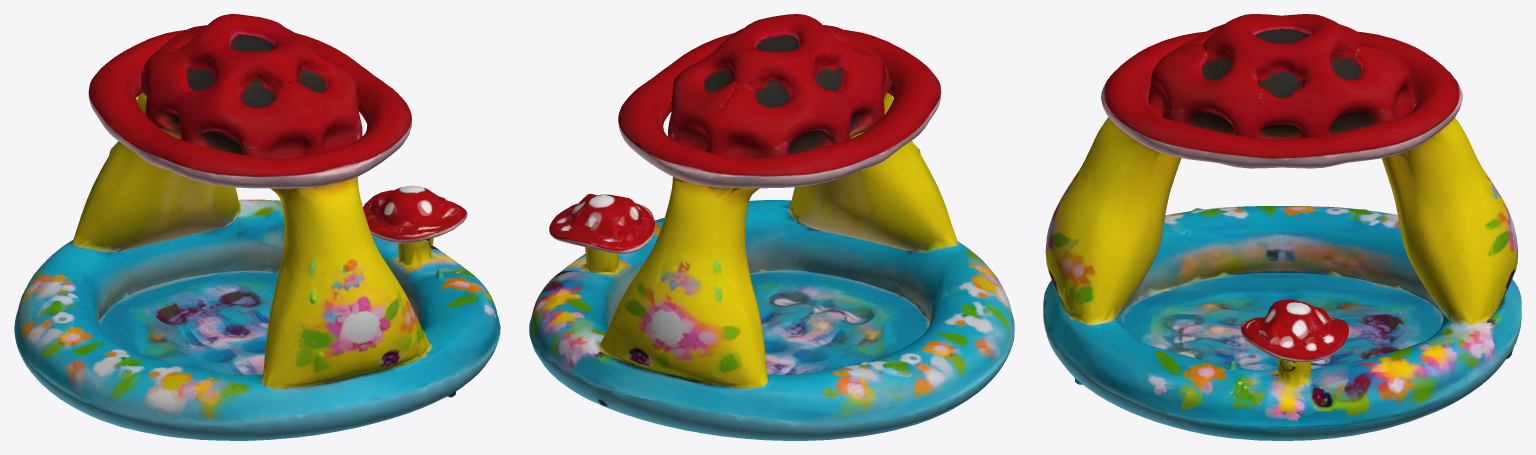
Rendered from BAZIN GONFLABIL COPII 102Х89СМ «CIUPERCA MUSCARIA» CU COPERIȘ.glb.
3 renders of one model, left to right at view 1: azimuth 30°, elevation 25°; view 2: azimuth 150°, elevation 25°; view 3: azimuth 270°, elevation 25°, orthographic.
Parts seen in each view (by area): view 1: tripo_node_8a80ad82-49c2-412b-9474-95185ec28040; view 2: tripo_node_8a80ad82-49c2-412b-9474-95185ec28040; view 3: tripo_node_8a80ad82-49c2-412b-9474-95185ec28040.
Part boxes in pixels (box(x1,y1,x2,y2)): tripo_node_8a80ad82-49c2-412b-9474-95185ec28040: box(14, 14, 500, 440); tripo_node_8a80ad82-49c2-412b-9474-95185ec28040: box(529, 14, 1014, 440); tripo_node_8a80ad82-49c2-412b-9474-95185ec28040: box(1043, 14, 1521, 440).
Size of the model in its own units: 1 by 0.8659 by 0.9923.
Materials: 1 (1 with a texture image).
